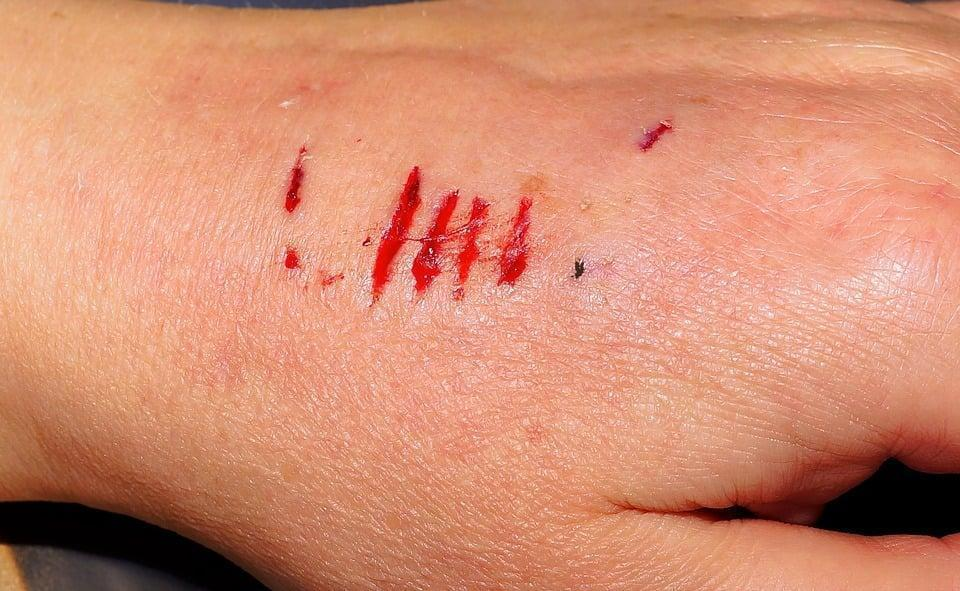Fire: (371, 165, 533, 302), (284, 146, 306, 212), (320, 271, 344, 288), (284, 246, 300, 269)
